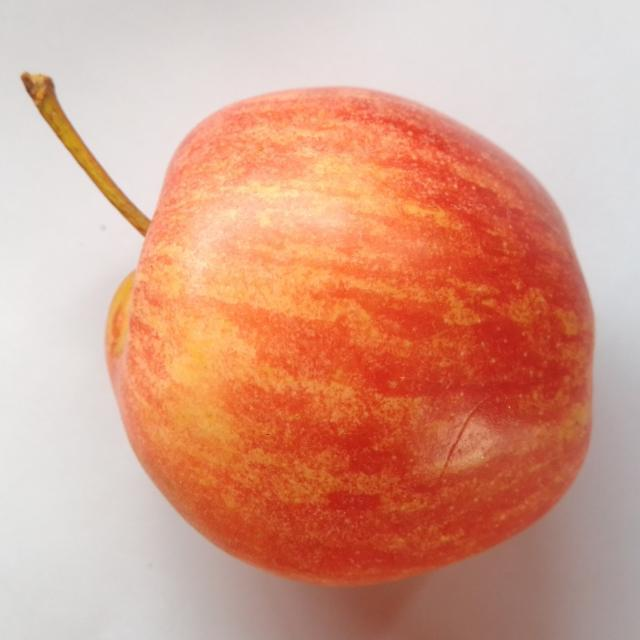Fresh Apple: (91, 93, 612, 587)
